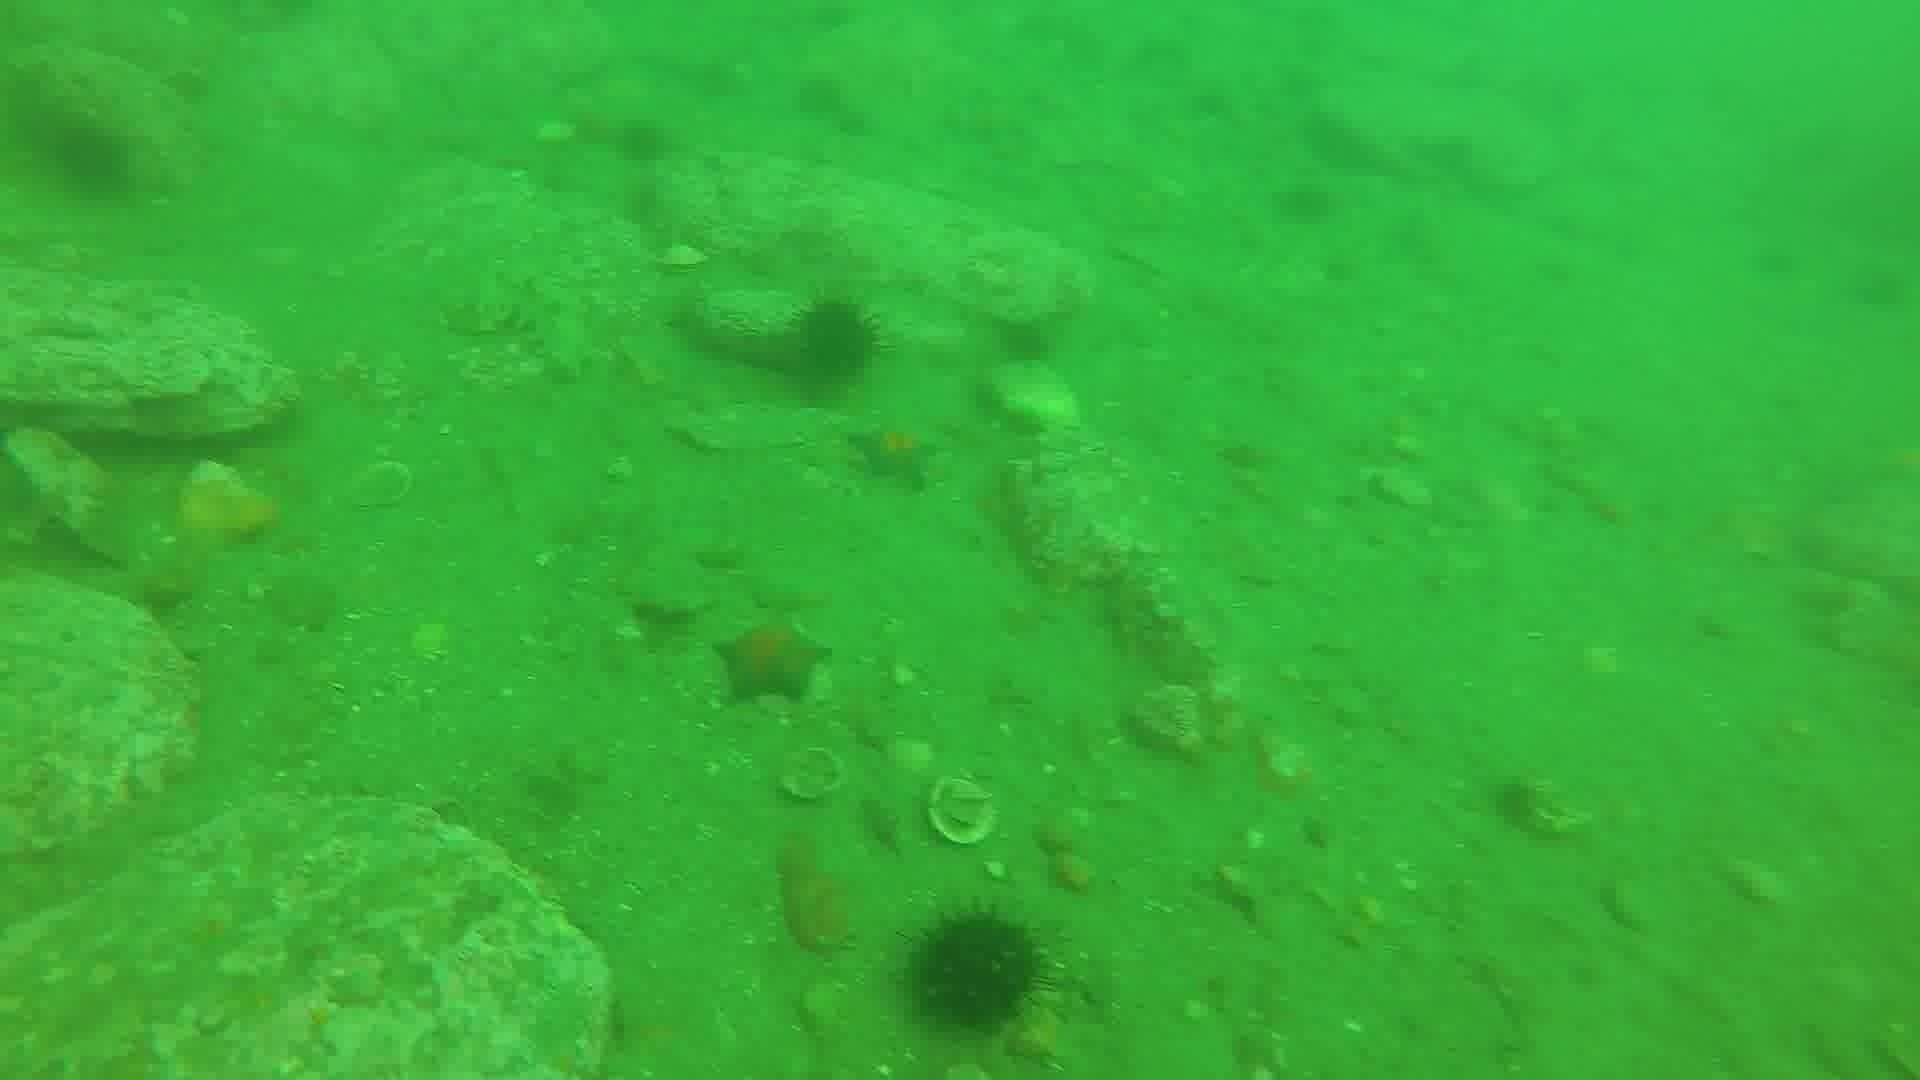echinus: (901, 906, 1054, 1036), (785, 295, 885, 393), (42, 116, 138, 203), (1484, 771, 1557, 839), (1269, 174, 1341, 231), (989, 313, 1056, 371), (608, 113, 676, 170)
holothurian: (452, 264, 599, 382)
starfish: (709, 615, 832, 709), (841, 411, 948, 491)
